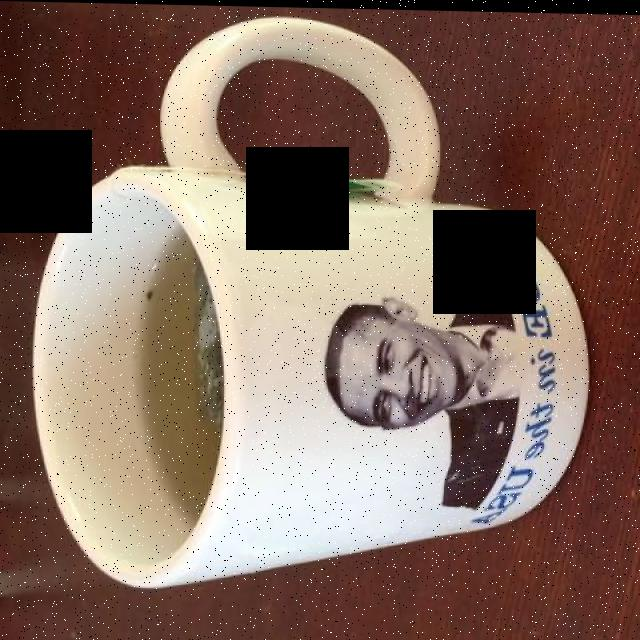tea: (138, 236, 221, 520)
